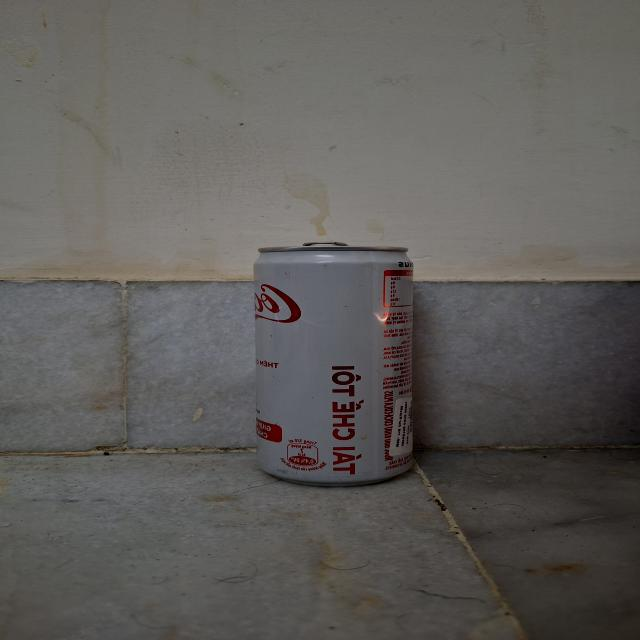Coca Cola Plus: (230, 232, 422, 482)
